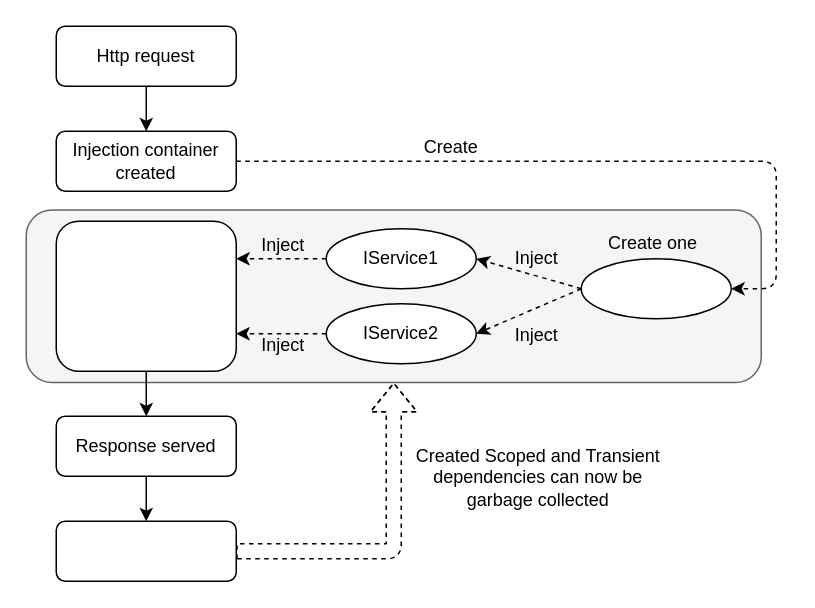
Image size: 815x608. Some labels were removed from this diagram. Here are the shapes that lost their labels. From the top down, the centre of each, then its label:
At [145,295]: "Controller".
At [655,288]: "ILogger".
At [145,550]: "Injection container disposed".
